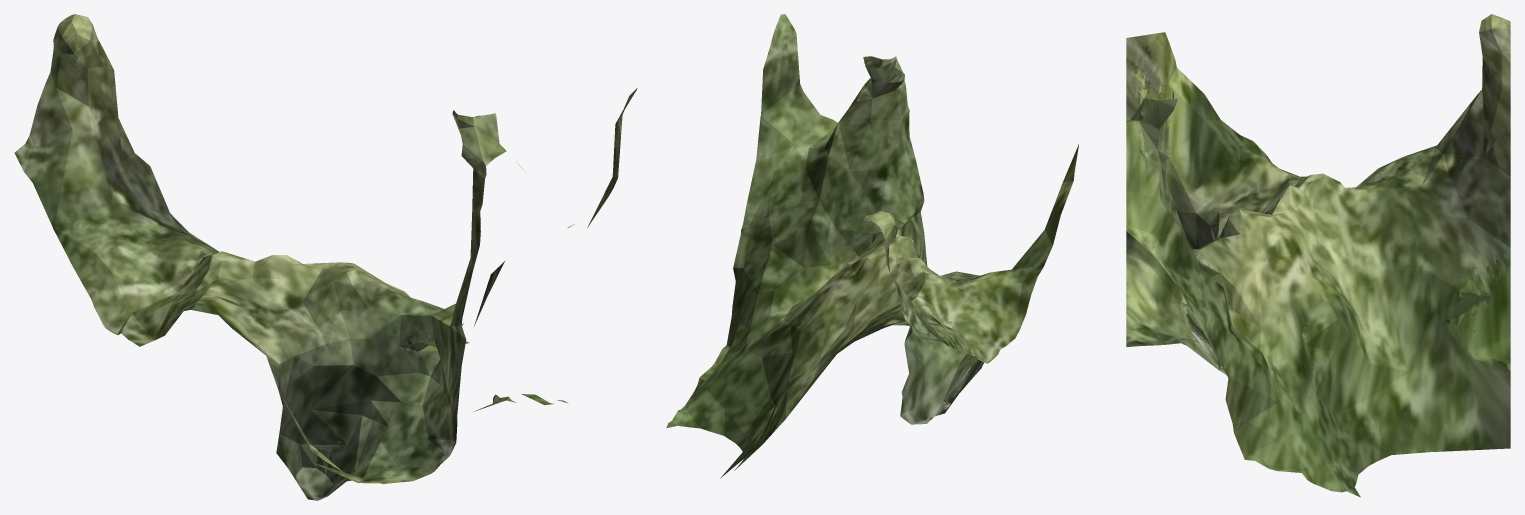
3 renders of one model, left to right at view 1: azimuth 30°, elevation 25°; view 2: azimuth 150°, elevation 25°; view 3: azimuth 270°, elevation 25°, orthographic. The views are drawn at different scales.
Size of the model in its own units: 2.95 by 2.95 by 2.95.
4 materials, 4 textured.
